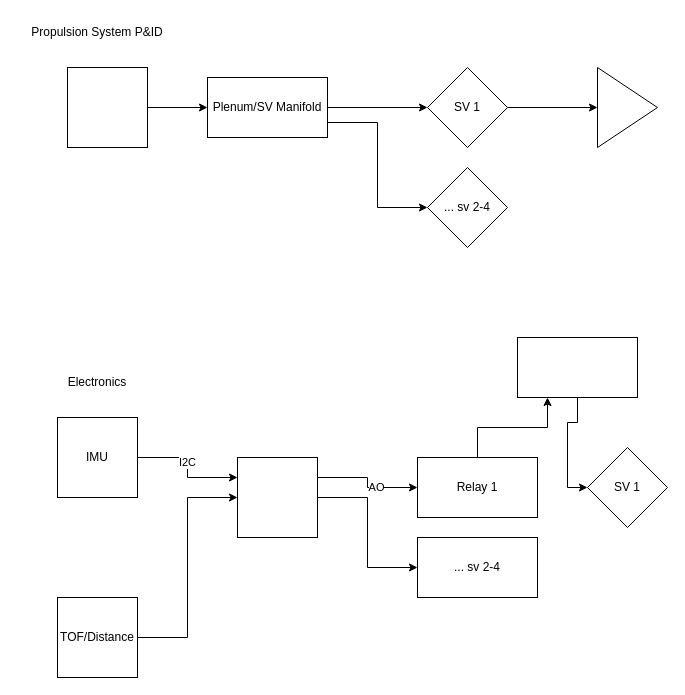
Some shapes in this 685 by 695 pixel diagram are drawn without their labels. Here are the shapes that lost their labels. From the top down, the box of each, then its label:
(66, 66, 148, 148): Gas Receiver P = ?
(596, 66, 658, 148): Nozzle 1
(516, 336, 638, 398): Power supply (potentially HV boost)
(236, 456, 318, 538): MCU
